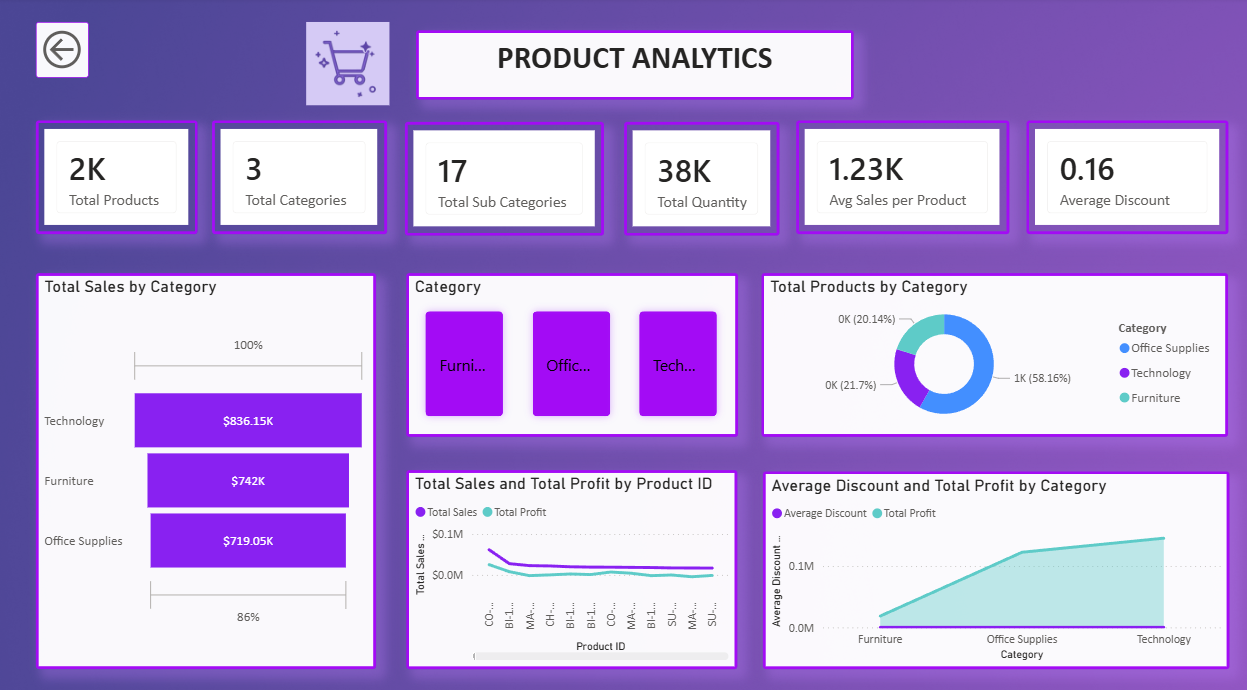

Layout of this report page (visuals, bound fields, positions):
{"tool":"powerbi","page":{"name":"Product Analytics","canvas":[1280,720],"ordinal":4},"visuals":[{"type":"textbox","box":[427.4,34.4,447.1,70.4],"z":0},{"type":"cardVisual","fields":{"Data":["Category_details.Avg Sales per Product"]},"box":[815.5,126.1,217.8,116.3],"z":1000},{"type":"cardVisual","fields":{"Data":["Category_details.Total Sub Categories"]},"box":[416,127.7,203.1,116.3],"z":2000},{"type":"cardVisual","fields":{"Data":["Category_details.Total Quantity"]},"box":[640.3,127.7,158.9,116.3],"z":3000},{"type":"cardVisual","fields":{"Data":["Category_details.Average Discount"]},"box":[1051.4,126.1,206.3,116.3],"z":4000},{"type":"lineChart","fields":{"Category":["Data.Product ID"],"Y":["Category_details.Total Sales","Category_details.Total Profit"]},"box":[418.3,483.3,338.3,203.3],"z":5000},{"type":"donutChart","fields":{"Category":["Category_details.Category","Category_details.Sub-Category","Data.Product ID"],"Y":["Category_details.Total Products"]},"box":[781.2,281.7,476.6,167],"z":6000},{"type":"funnel","fields":{"Y":["Category_details.Total Sales"],"Category":["Category_details.Category","Category_details.Sub-Category","Data.Product ID"]},"box":[39.3,281.7,347.2,404.5],"z":7000},{"type":"areaChart","fields":{"Category":["Category_details.Category"],"Y":["Category_details.Average Discount","Category_details.Total Profit"]},"box":[781.7,485,476.7,201.7],"z":8000},{"type":"cardVisual","fields":{"Data":["Category_details.Total Categories"]},"box":[219.4,126.1,178.5,116.3],"z":9000},{"type":"cardVisual","fields":{"Data":["Category_details.Total Products"]},"box":[39.3,126.1,165.4,116.3],"z":10000},{"type":"advancedSlicerVisual","fields":{"Values":["Category_details.Category"]},"box":[418,282,338.6,167.2],"z":11000},{"type":"actionButton","box":[39.7,25.5,53.8,56.7],"z":12000},{"type":"image","box":[289,25.5,138.9,85],"z":13000}]}

Visuals, with their boxes in screenshot pixels (x1, y1, x2, y2), scaled from the page's 1280x720 canvas onto the 1247x690 screenshot:
textbox: <bbox>416, 33, 852, 100</bbox>
cardVisual - Category_details.Avg Sales per Product: <bbox>794, 121, 1007, 232</bbox>
cardVisual - Category_details.Total Sub Categories: <bbox>405, 122, 603, 234</bbox>
cardVisual - Category_details.Total Quantity: <bbox>624, 122, 779, 234</bbox>
cardVisual - Category_details.Average Discount: <bbox>1024, 121, 1225, 232</bbox>
lineChart - Data.Product ID x Category_details.Total Sales: <bbox>408, 463, 737, 658</bbox>
donutChart - Category_details.Category x Category_details.Sub-Category: <bbox>761, 270, 1225, 430</bbox>
funnel - Category_details.Total Sales x Category_details.Category: <bbox>38, 270, 377, 658</bbox>
areaChart - Category_details.Category x Category_details.Average Discount: <bbox>762, 465, 1226, 658</bbox>
cardVisual - Category_details.Total Categories: <bbox>214, 121, 388, 232</bbox>
cardVisual - Category_details.Total Products: <bbox>38, 121, 199, 232</bbox>
advancedSlicerVisual - Category_details.Category: <bbox>407, 270, 737, 430</bbox>
actionButton: <bbox>39, 24, 91, 79</bbox>
image: <bbox>282, 24, 417, 106</bbox>
